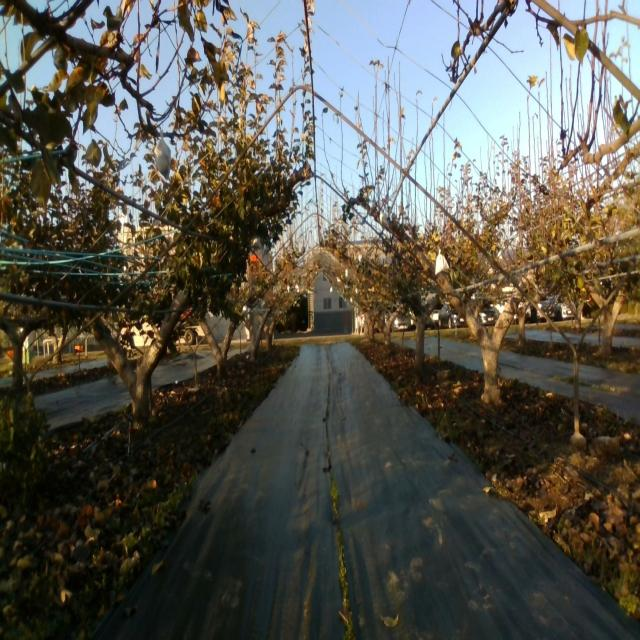pearbags: (154, 129, 171, 182), (434, 247, 450, 276), (379, 211, 389, 229)
